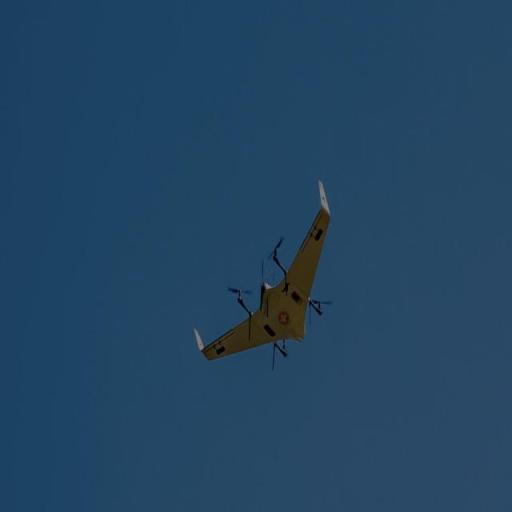uav: (188, 178, 332, 388)
